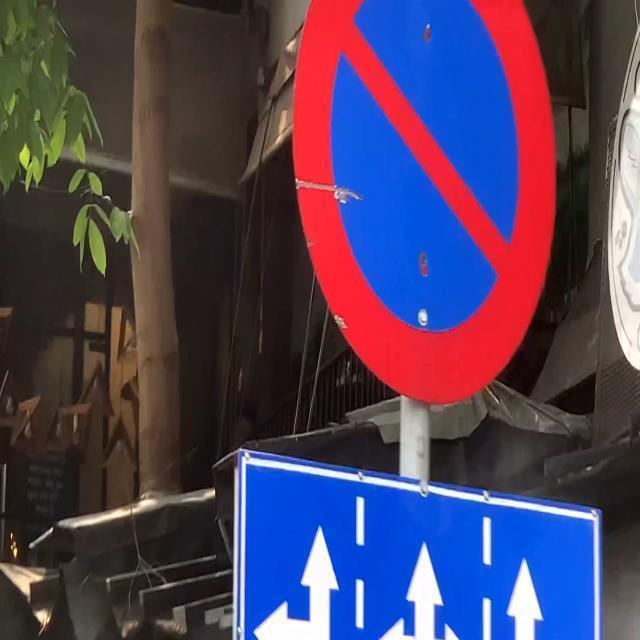131a-cam-do-xe: (290, 0, 556, 402)
